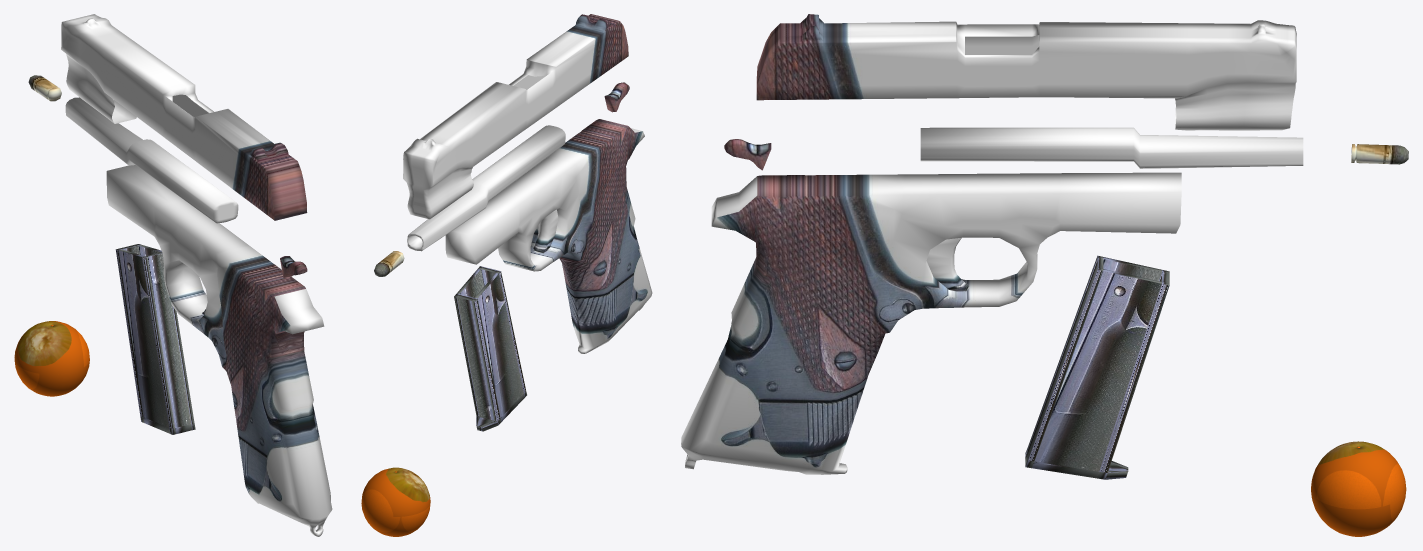
3 renders of one model, left to right at view 1: azimuth 30°, elevation 25°; view 2: azimuth 150°, elevation 25°; view 3: azimuth 270°, elevation 25°, orthographic. The views are drawn at different scales.
Visible parts, largest first — view 1: Hand, Top, Magazin, Barell, Orange, Bullet, Kakas; view 2: Hand, Top, Magazin, Barell, Orange, Trigger, Bullet, Kakas; view 3: Hand, Top, Magazin, Barell, Orange, Trigger, Bullet, Kakas.
Part boxes in pixels (x1,y1,x2,y2): Hand: (106,165,332,536); Top: (61,14,307,220); Magazin: (115,244,195,434); Barell: (65,97,238,223); Orange: (14,321,89,396); Bullet: (28,75,61,101); Kakas: (280,256,307,278); Hand: (445,119,652,353); Top: (403,14,628,219); Magazin: (454,266,526,431); Barell: (407,125,565,251); Orange: (361,467,430,536); Trigger: (533,209,558,253); Bullet: (374,251,404,276); Kakas: (604,82,629,112); Hand: (681,172,1181,474); Top: (756,14,1296,130); Magazin: (1025,255,1169,479); Barell: (920,127,1303,168); Orange: (1311,441,1406,536); Trigger: (926,237,969,291); Bullet: (1351,144,1408,164); Kakas: (724,139,771,170).
Bounding box in the file's own units: 2 × 15.23 × 11.79.
Materials: 9 (9 with a texture image).
